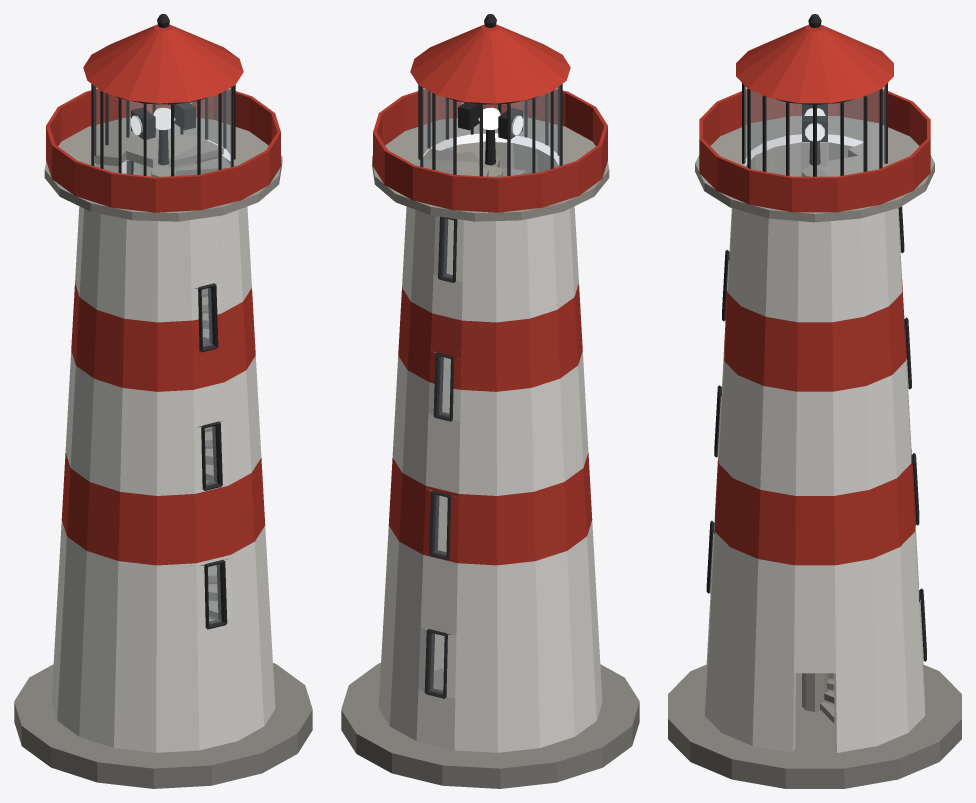
The model's file is majak_kulaty.glb.
3 views of the same model, side by side, from view 1: azimuth 30°, elevation 25°; view 2: azimuth 150°, elevation 25°; view 3: azimuth 270°, elevation 25° (orthographic).
Visible parts, largest first — view 1: majak, reflektor; view 2: majak, reflektor; view 3: majak, reflektor.
Part boxes in pixels (<box>): majak: <box>14,14,312,788</box>; reflektor: <box>131,102,195,139</box>; majak: <box>341,14,639,788</box>; reflektor: <box>458,102,522,139</box>; majak: <box>668,14,961,788</box>; reflektor: <box>802,104,827,141</box>.
Size of the model in its own units: 7.85 by 20.98 by 7.85.
3 materials, 1 textured.
